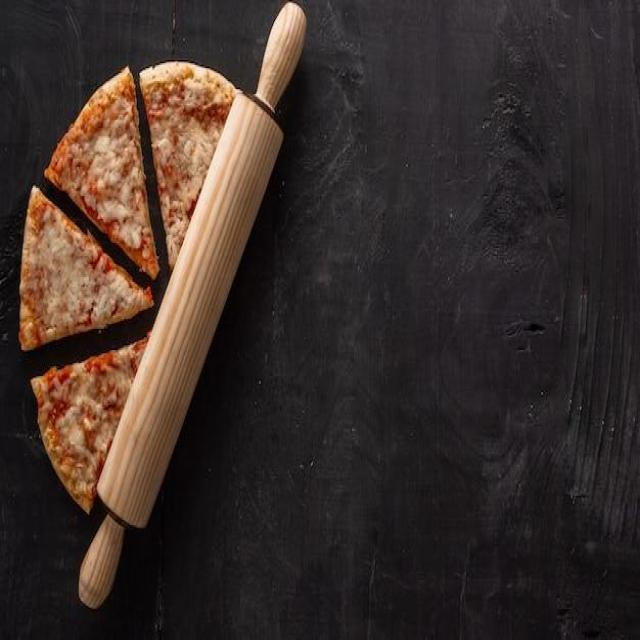pizza: (44, 64, 160, 280), (31, 332, 150, 516), (20, 186, 153, 350), (140, 60, 241, 274)
